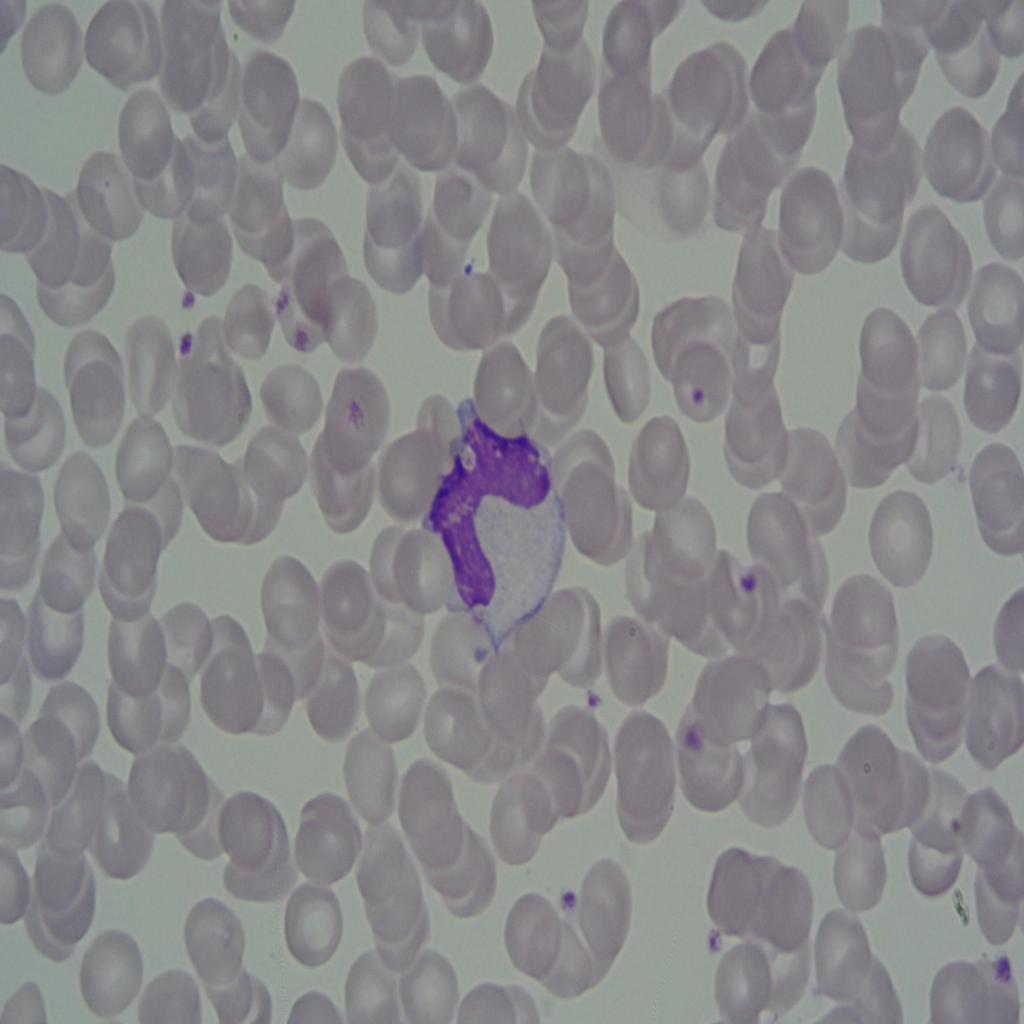Myeoblast: (432, 398, 564, 641)
Platelet: (562, 679, 613, 728), (550, 875, 593, 929), (168, 282, 206, 332), (734, 559, 764, 613), (166, 330, 200, 377), (343, 395, 379, 439), (446, 237, 475, 290), (671, 719, 709, 758), (703, 913, 733, 957), (686, 368, 710, 421), (989, 942, 1013, 995), (268, 286, 296, 330), (289, 327, 316, 366)
